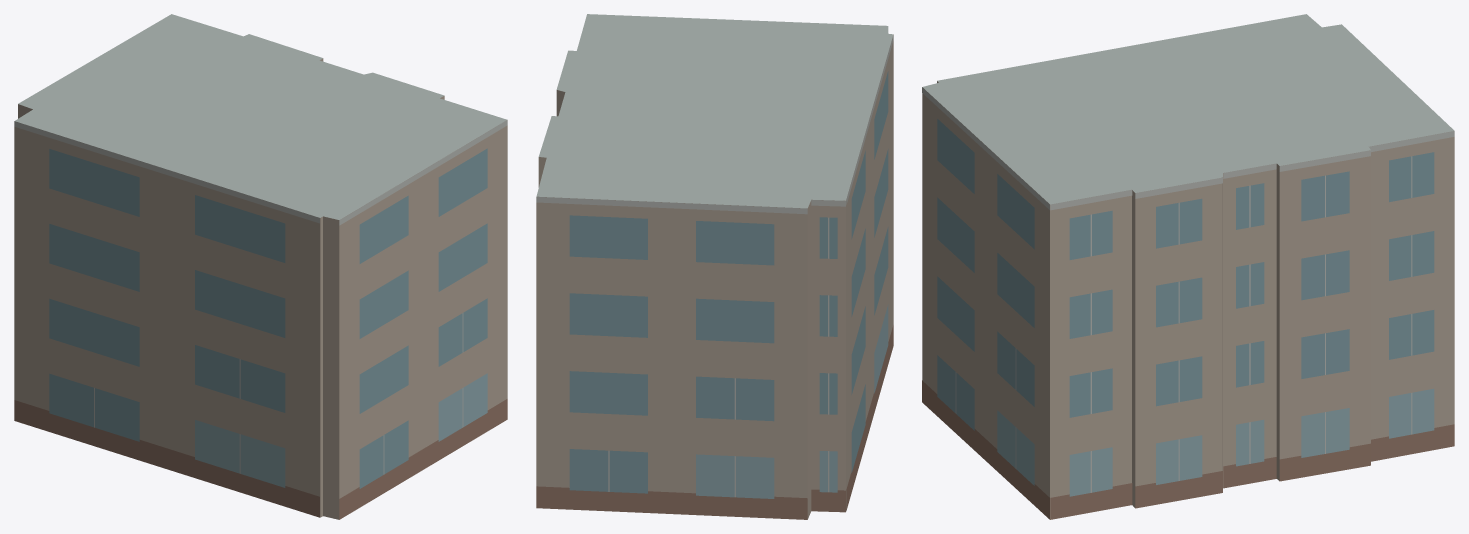
File: survey-upis-32743980.glb
3 renders of one model, left to right at view 1: azimuth 30°, elevation 25°; view 2: azimuth 150°, elevation 25°; view 3: azimuth 270°, elevation 25°, orthographic. The views are drawn at different scales.
Visible parts, largest first — view 1: survey-upis-32743980.tmp; view 2: survey-upis-32743980.tmp; view 3: survey-upis-32743980.tmp.
Boxes of the visible parts, x1=… form: survey-upis-32743980.tmp: x1=14, y1=14, x2=507, y2=519; survey-upis-32743980.tmp: x1=536, y1=14, x2=893, y2=519; survey-upis-32743980.tmp: x1=922, y1=14, x2=1454, y2=519.
Size of the model in its own units: 16.85 by 13 by 19.91.
